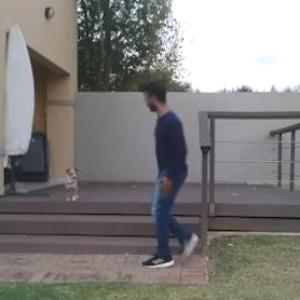follow: (140, 84, 190, 243)
